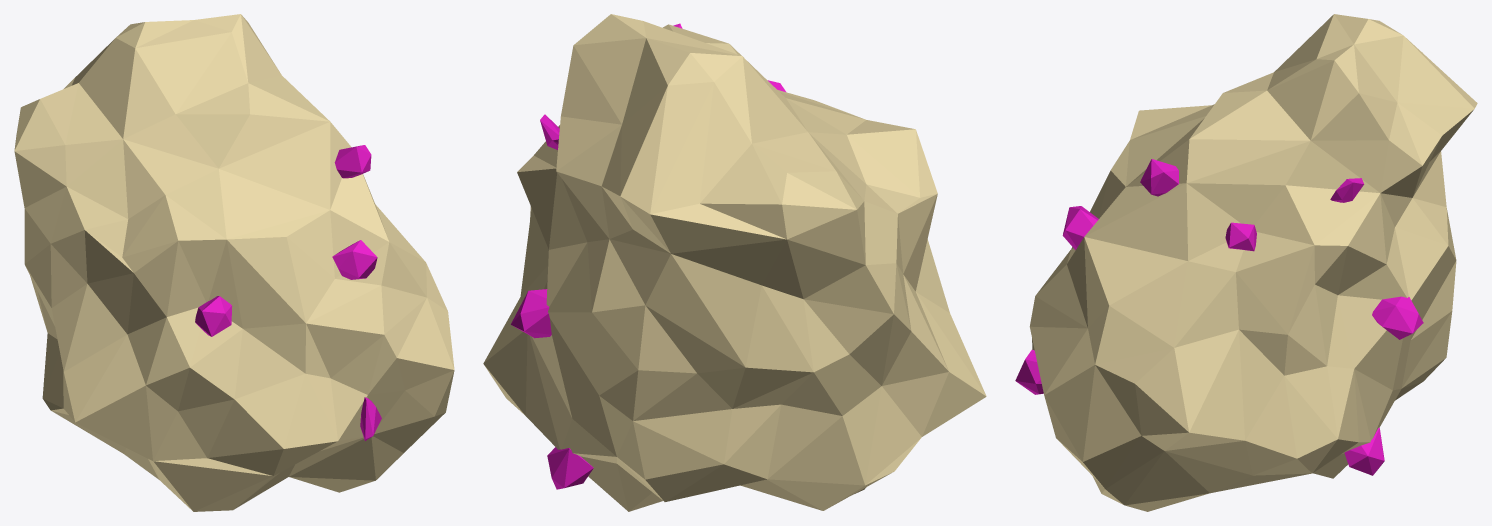
File: CrystalOre (46).fbx
3 renders of one model, left to right at view 1: azimuth 30°, elevation 25°; view 2: azimuth 150°, elevation 25°; view 3: azimuth 270°, elevation 25°, orthographic. The views are drawn at different scales.
Visible parts, largest first — view 1: Asteroid266; view 2: Asteroid266; view 3: Asteroid266.
Boxes of the visible parts, box(x1,y1,x2,y2) form: Asteroid266: box(14, 14, 454, 511); Asteroid266: box(483, 14, 986, 511); Asteroid266: box(1015, 14, 1477, 511).
Size of the model in its own units: 337 by 365 by 343.
